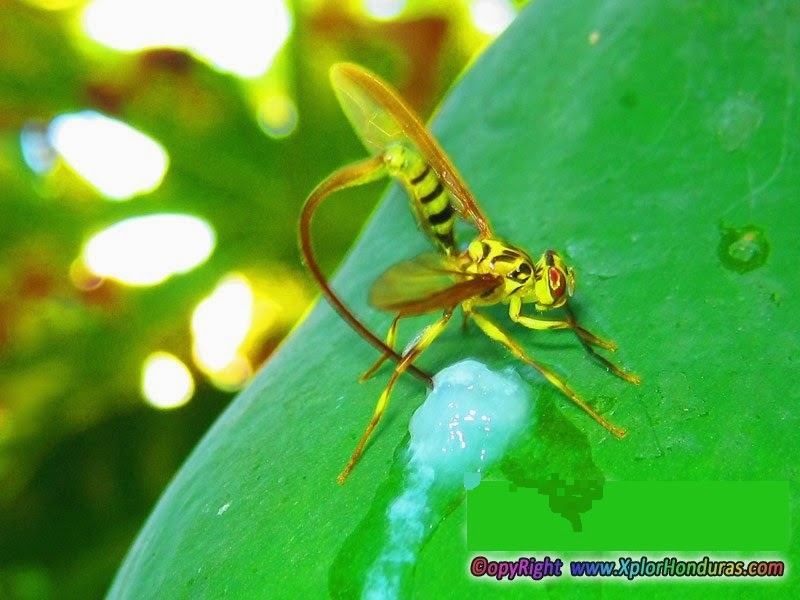Fruit fly: (281, 104, 621, 417)
